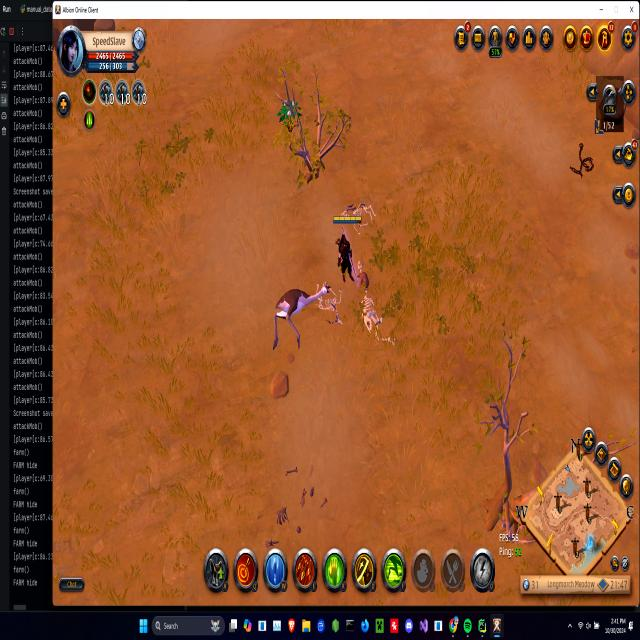hide: (278, 97, 292, 129)
mob: (270, 280, 329, 355)
red: (332, 209, 362, 286)
